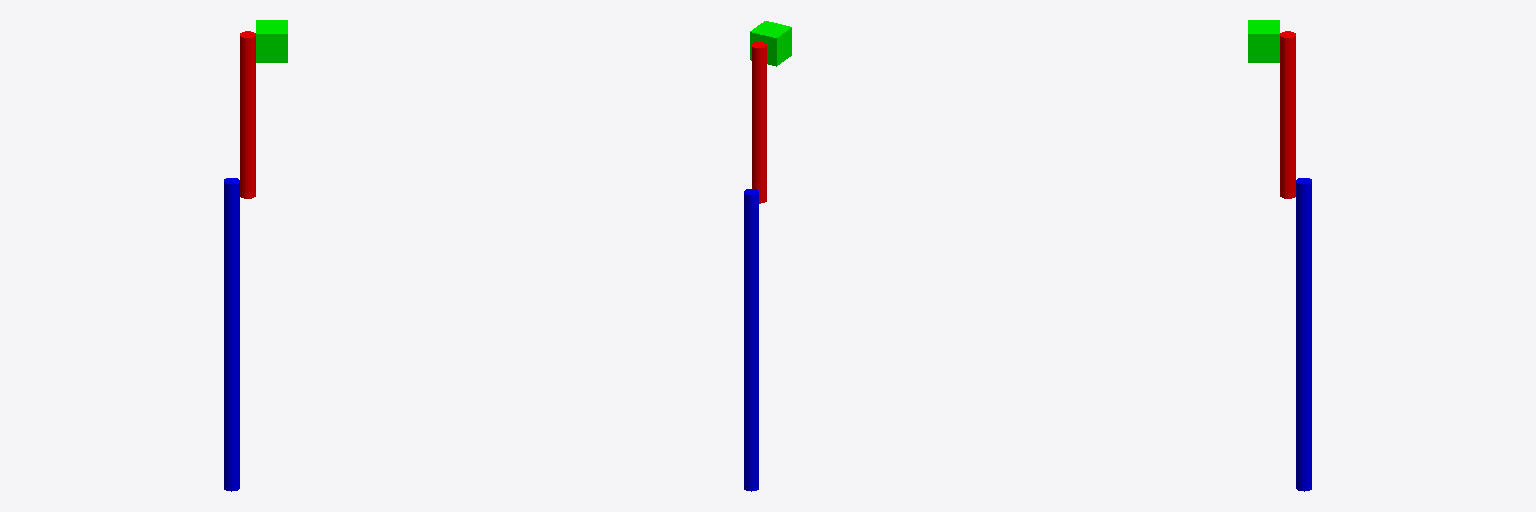
The robot description file, URDF, robot "Acrobot":
<?xml version="1.0"?>

<robot xmlns="http://drake.mit.edu"
 xmlns:xsi="http://www.w3.org/2001/XMLSchema-instance"
 xsi:schemaLocation="http://drake.mit.edu ../../doc/drakeURDF.xsd" name="Acrobot">

  <link name="base_link">
   <inertial>
      <origin xyz="0 0 0" rpy="0 0 0" />
      <mass value="0.1" />
      <inertia ixx=".1" ixy="0" ixz="0" iyy=".1" iyz="0" izz=".1" />
    </inertial>
   <visual>
      <geometry>
        <box size="0.2 0.2 0.2" />
      </geometry>
      <material name="green">
        <color rgba="0 1 0 1" />
      </material>
    </visual>
    <collision name="base_link_collision">
      <geometry>
        <box size="0.2 0.2 0.2" />
      </geometry>
    </collision>
  </link>

  <link name="upper_link">
    <inertial>
      <origin xyz="0 0 -.5" rpy="0 0 0" />
      <mass value="1" />
      <inertia ixx="1" ixy="0" ixz="0" iyy="0.083" iyz="0" izz="1" />
    </inertial>
    <visual>
      <origin xyz="0 0 -0.5" rpy="0 0 0" />
      <geometry>
        <cylinder length="1.1" radius="0.05" />
      </geometry>
      <material name="red">
        <color rgba="1 0 0 1" />
      </material>
    </visual>
    <collision name="upper_link_collision">
      <origin xyz="0 0 -0.5" rpy="0 0 0" />
      <geometry>
        <cylinder length="1.1" radius="0.05" />
      </geometry>
    </collision>
  </link>

  <link name="lower_link">
    <inertial>
      <origin xyz="0 0 -1" rpy="0 0 0" />
      <mass value="1" />
      <inertia ixx="1" ixy="0" ixz="0" iyy="0.33" iyz="0" izz="1" />
    </inertial>
    <visual>
      <origin xyz="0 0 -1" rpy="0 0 0" />
      <geometry>
        <cylinder length="2.1" radius=".05" />
      </geometry>
      <material name="blue">
        <color rgba="0 0 1 1" />
      </material>
    </visual>
    <collision name="lower_link_collision">
      <origin xyz="0 0 -1" rpy="0 0 0" />
      <geometry>
         <cylinder length="2.1" radius=".05" />
      </geometry>
    </collision>
  </link>
  
  <joint name="shoulder" type="continuous">
    <parent link="base_link" />
    <child link="upper_link" />
    <origin xyz="0 0.15 0" />
    <axis xyz="0 1 0" />
    <dynamics damping="0.1" />
  </joint>

  <joint name="elbow" type="continuous">
    <parent link="upper_link" />
    <child link="lower_link" />
    <origin xyz="0 0.1 -1" />
    <axis xyz="0 1 0" />
    <dynamics damping="0.1" />
  </joint>

  <transmission type="SimpleTransmission" name="elbow_trans">
    <actuator name="elbow" />
    <joint name="elbow" />
    <mechanicalReduction>1</mechanicalReduction>
  </transmission>
  
  <frame name="hand" link="lower_link" xyz="0 0 -2.1" rpy="0 0 0" />

</robot>

--- Facts derived from the render (not from the file) ---
Views: 3 orthographic renders of the robot side by side, from view 1: azimuth 90°, elevation 25°; view 2: azimuth 150°, elevation 25°; view 3: azimuth 270°, elevation 25°.
Model Acrobot with 3 links and 2 joints (2 continuous), rooted at base_link, posed all joints at 0.
Visible links, largest first — view 1: lower_link, upper_link, base_link; view 2: lower_link, upper_link, base_link; view 3: lower_link, upper_link, base_link.
Link boxes in pixels (x1,y1,x2,y2): lower_link: [224, 178, 239, 491]; upper_link: [240, 31, 255, 198]; base_link: [256, 20, 287, 62]; lower_link: [744, 189, 758, 491]; upper_link: [752, 42, 766, 203]; base_link: [750, 21, 791, 66]; lower_link: [1296, 178, 1311, 491]; upper_link: [1280, 31, 1295, 198]; base_link: [1248, 20, 1279, 62].
Bounding box of the posed robot: 0.2 × 0.4 × 3.15 m (x, y, z).
Geometry: primitives only (box / cylinder / sphere), no mesh files.
